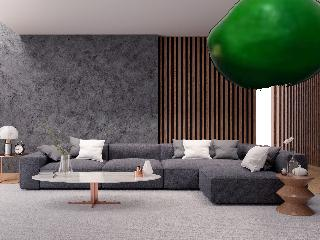lime: (208, 0, 320, 89)
